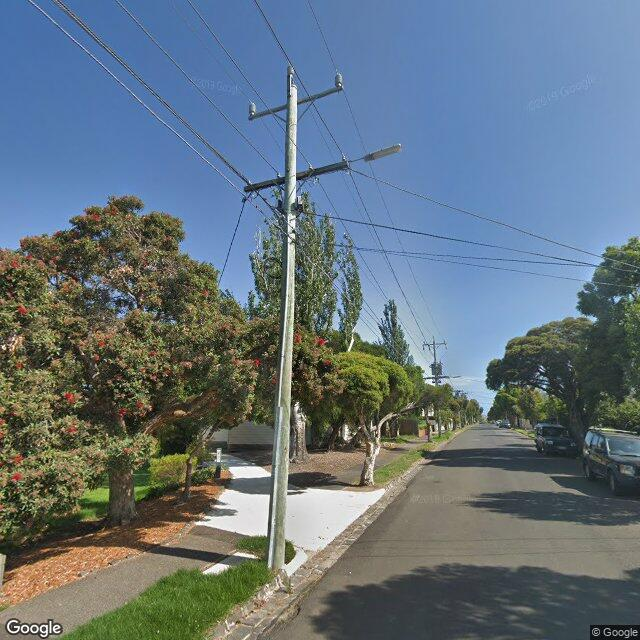HV-transmission: (247, 66, 344, 120), (422, 336, 449, 350)
crossarm: (244, 153, 351, 194), (248, 86, 344, 120), (422, 342, 447, 346), (423, 376, 450, 379)
streetlight: (348, 143, 402, 165), (450, 376, 462, 378)
timber-pole: (265, 85, 299, 568), (433, 338, 442, 438)
transformer: (429, 362, 443, 375)
